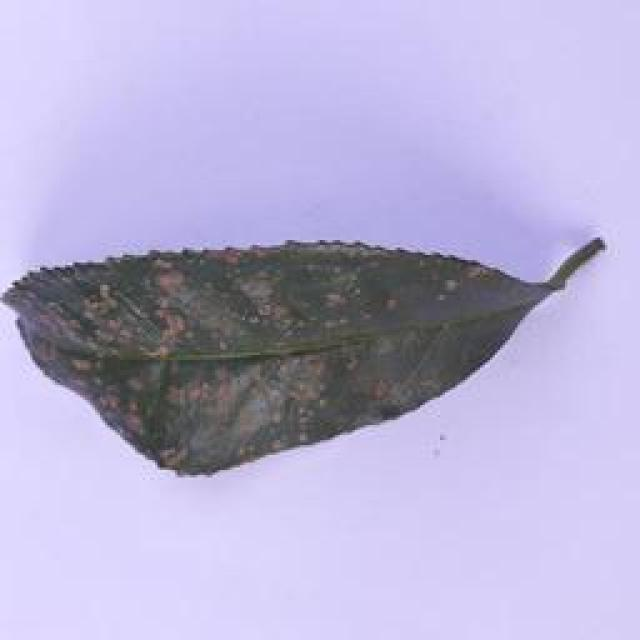Algal Leaf Spot: (3, 199, 561, 492)
